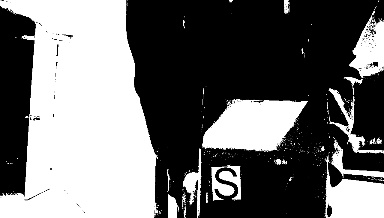S: (211, 165, 240, 199)
